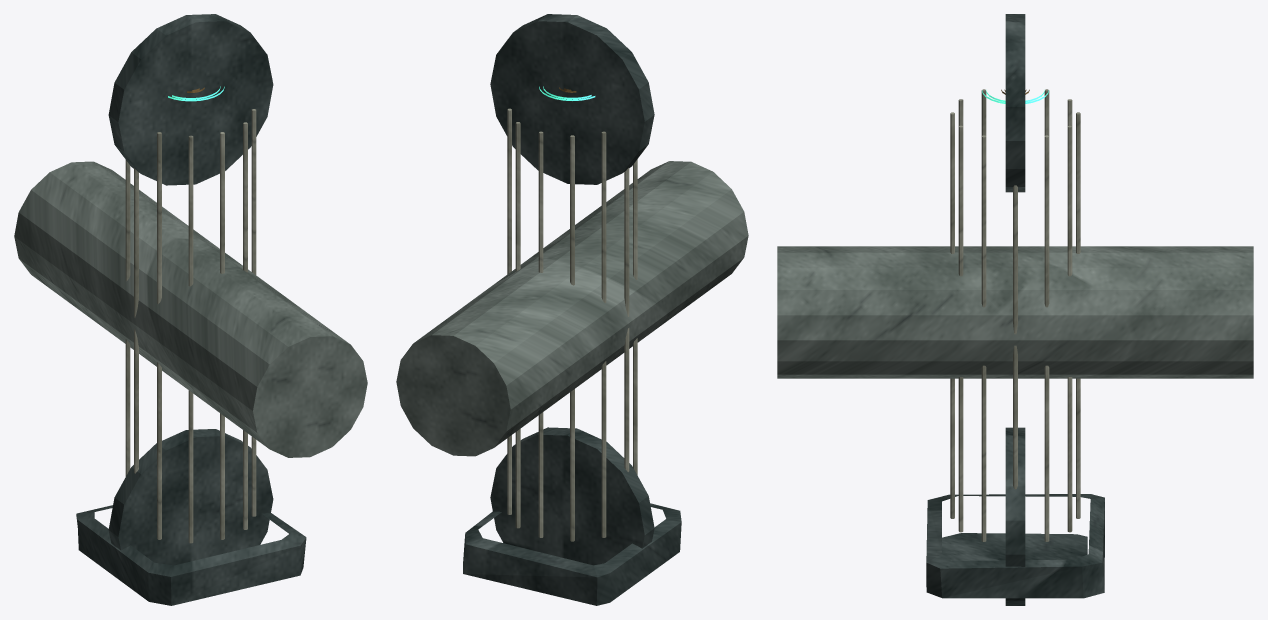
File: 0281_fluted_column_06.glb
3 views of the same model, side by side, from view 1: azimuth 30°, elevation 25°; view 2: azimuth 150°, elevation 25°; view 3: azimuth 270°, elevation 25° (orthographic).
Parts seen in each view (by area): view 1: stone, stone_dark, stone_light; view 2: stone, stone_dark, stone_light; view 3: stone, stone_dark, stone_light.
Part boxes in pixels (x1=…): stone: x1=14, y1=161, x2=367, y2=457; stone_dark: x1=76, y1=14, x2=306, y2=605; stone_light: x1=125, y1=109, x2=256, y2=543; stone: x1=396, y1=161, x2=748, y2=456; stone_dark: x1=463, y1=14, x2=681, y2=605; stone_light: x1=507, y1=108, x2=637, y2=541; stone: x1=777, y1=246, x2=1253, y2=378; stone_dark: x1=926, y1=14, x2=1104, y2=605; stone_light: x1=950, y1=89, x2=1080, y2=541.
Size of the model in its own units: 1.28 by 4.53 by 3.4.
Materials: 5 (5 with a texture image).
